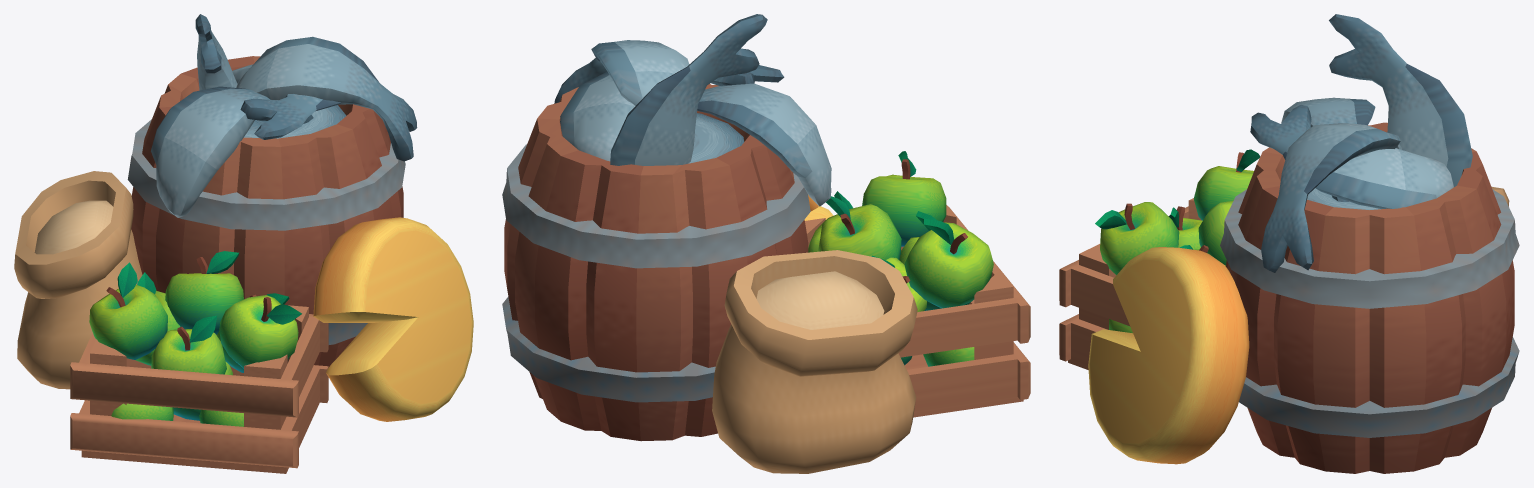
The model's file is Food_Pile_Large.gltf.
The picture shows the model from 3 angles, left to right: view 1: azimuth 30°, elevation 25°; view 2: azimuth 150°, elevation 25°; view 3: azimuth 270°, elevation 25°; orthographic projection. The views are drawn at different scales.
Visible parts, largest first — view 1: Food_Pile_Large; view 2: Food_Pile_Large; view 3: Food_Pile_Large.
Boxes of the visible parts, x1=… form: Food_Pile_Large: x1=14, y1=14, x2=473, y2=473; Food_Pile_Large: x1=502, y1=14, x2=1030, y2=473; Food_Pile_Large: x1=1059, y1=14, x2=1519, y2=473.
Size of the model in its own units: 1.99 by 1.75 by 1.92.
Materials: 1 (1 with a texture image).
